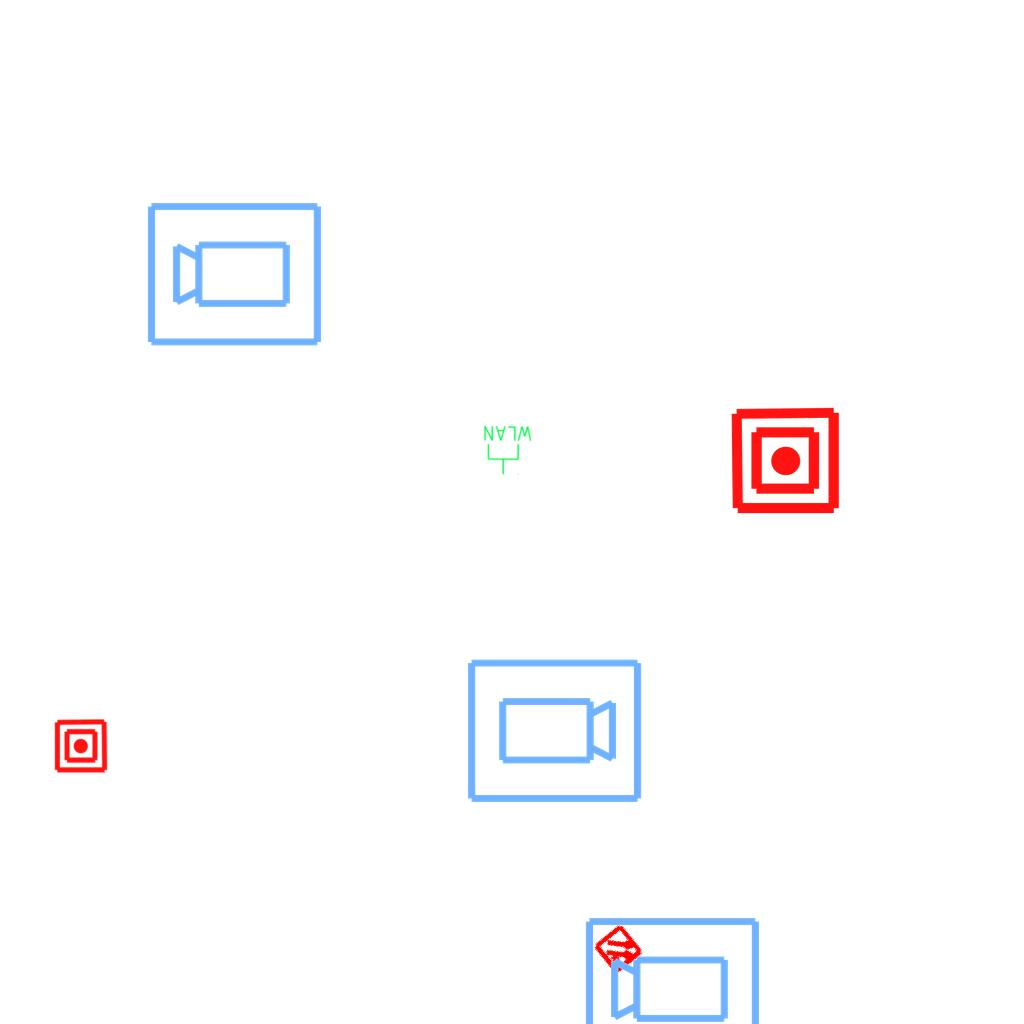KFO_Kamera_mit_Festobjektiv: (463, 655, 645, 809), (144, 196, 326, 350), (582, 911, 764, 1024)
NAM-Nichtautomatischer_Melder: (729, 404, 842, 517), (53, 718, 109, 774)
OT_Multisensormelder_(Kombination_RMO_WMD): (579, 910, 659, 990)
WLAN: (482, 424, 534, 476)
